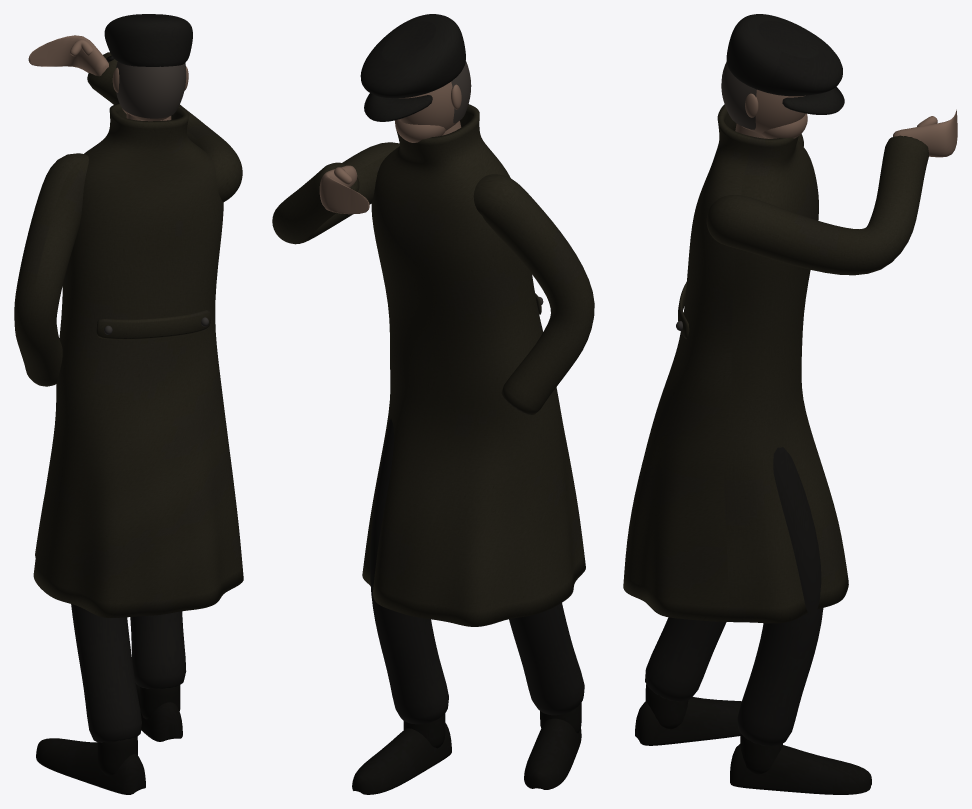
Rendered from worker-hand-on-bar.glb.
3 renders of one model, left to right at view 1: azimuth 30°, elevation 25°; view 2: azimuth 150°, elevation 25°; view 3: azimuth 270°, elevation 25°, orthographic. The views are drawn at different scales.
Visible parts, largest first — view 1: worker-hand-on-bar-body; view 2: worker-hand-on-bar-body; view 3: worker-hand-on-bar-body.
Part boxes in pixels (x1=…): worker-hand-on-bar-body: x1=14, y1=14, x2=243, y2=794; worker-hand-on-bar-body: x1=272, y1=14, x2=594, y2=794; worker-hand-on-bar-body: x1=623, y1=14, x2=957, y2=794.
Size of the model in its own units: 0.6436 by 1.79 by 0.7166.
Materials: 7 (4 with a texture image).
